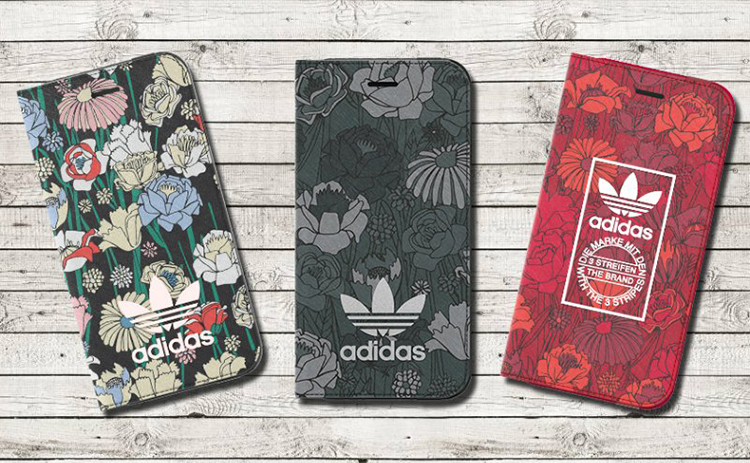Adidas: (105, 271, 223, 365), (329, 275, 434, 367), (587, 159, 669, 244)
